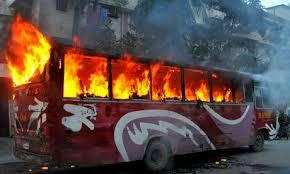fire: (0, 31, 224, 99), (4, 15, 51, 86)
